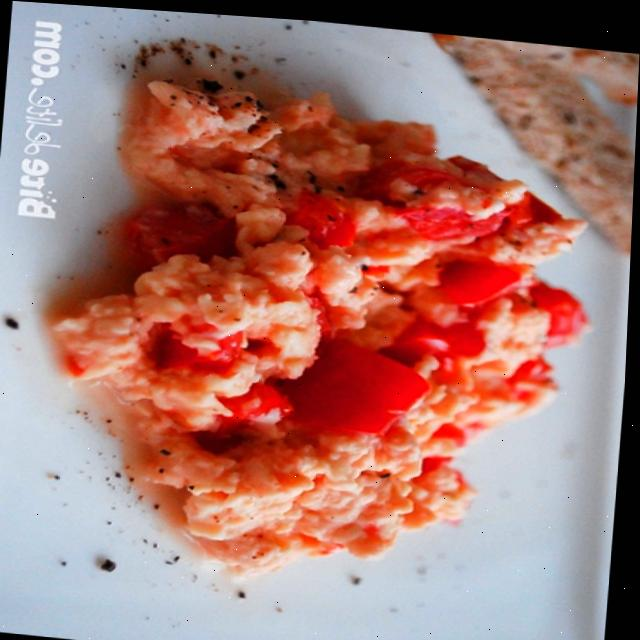鸡蛋料理: (0, 1, 634, 637)
